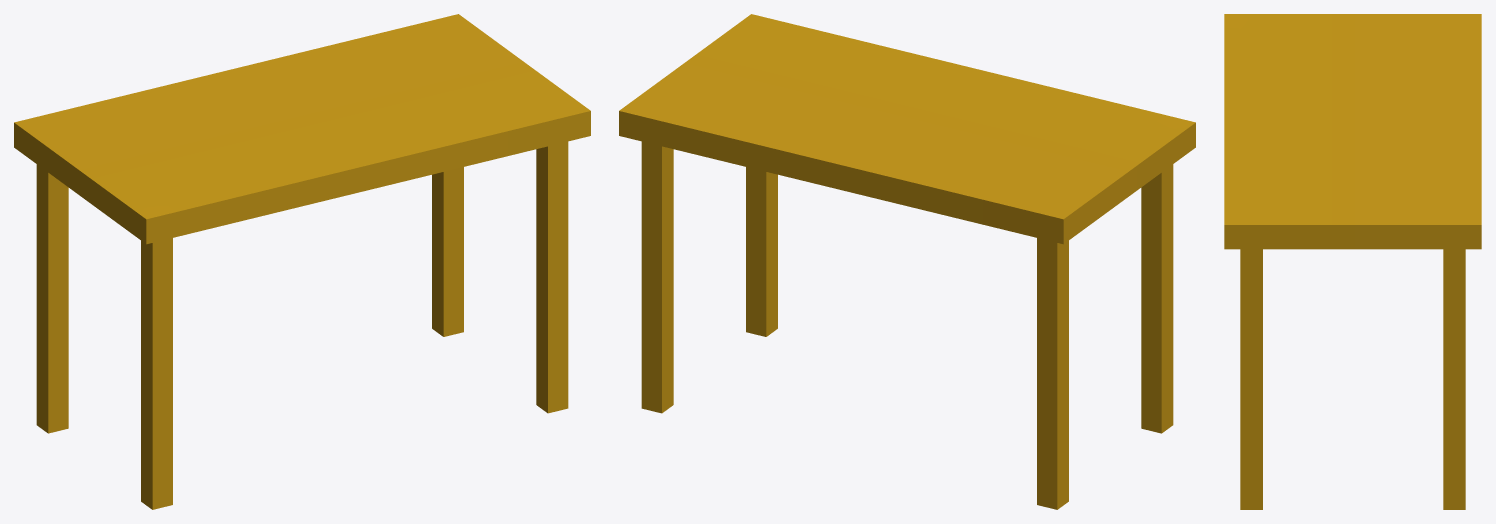
The model's file is Table02.fbx.
3 views of the same model, side by side, from view 1: azimuth 30°, elevation 25°; view 2: azimuth 150°, elevation 25°; view 3: azimuth 270°, elevation 25° (orthographic). The views are drawn at different scales.
Visible parts, largest first — view 1: Table01; view 2: Table01; view 3: Table01.
Boxes of the visible parts, box(x1,y1,x2,y2) form: Table01: box(14, 14, 590, 509); Table01: box(619, 14, 1195, 509); Table01: box(1224, 14, 1481, 509).
Size of the model in its own units: 62 by 40 by 31.98.
